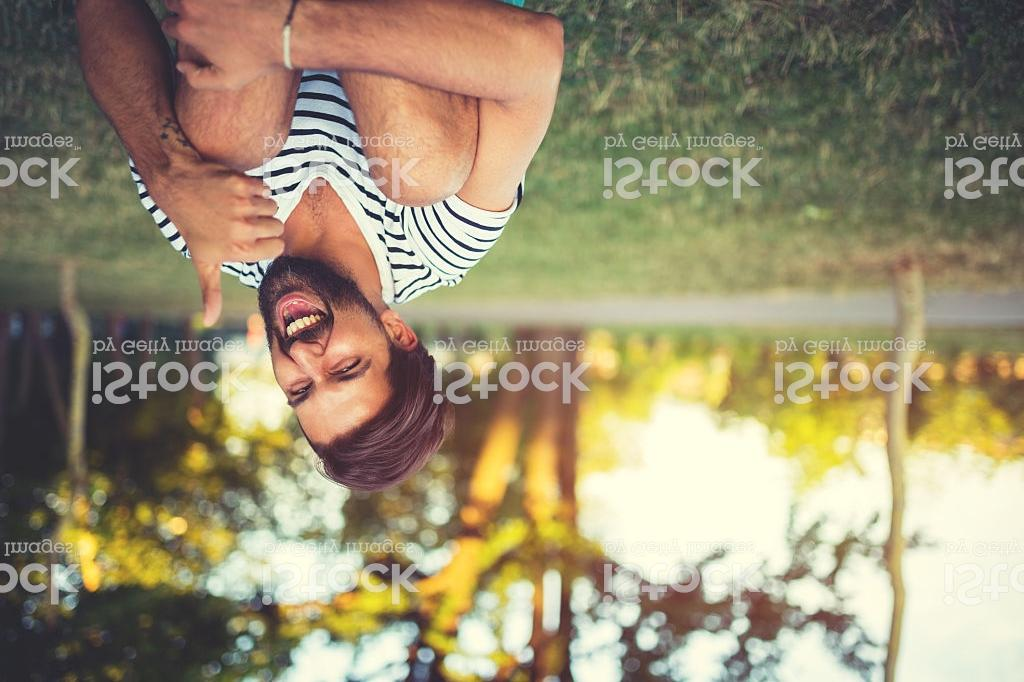thumbsdown: (194, 170, 287, 330)
